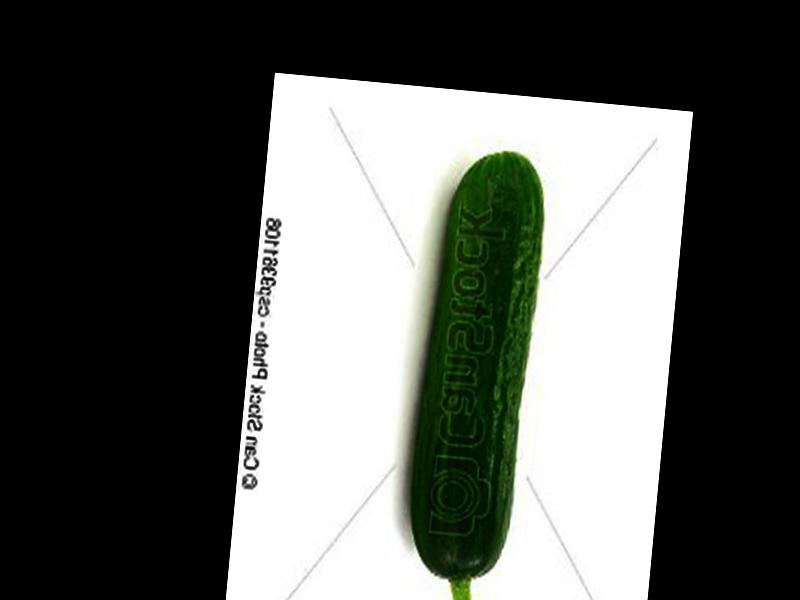Cucumber: (399, 142, 549, 600)
